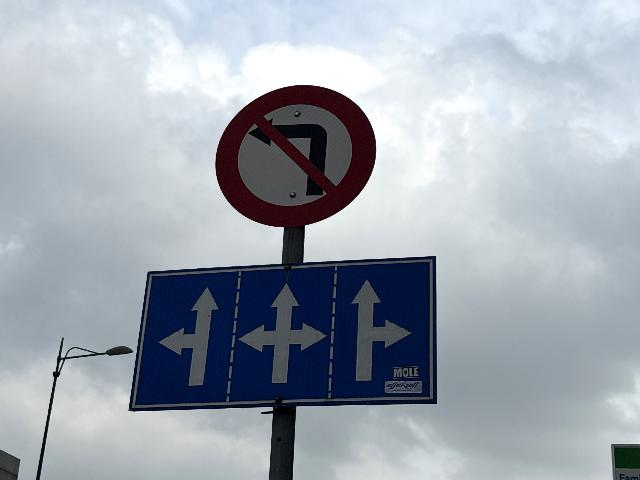cam-re-trai: (213, 83, 379, 229)
